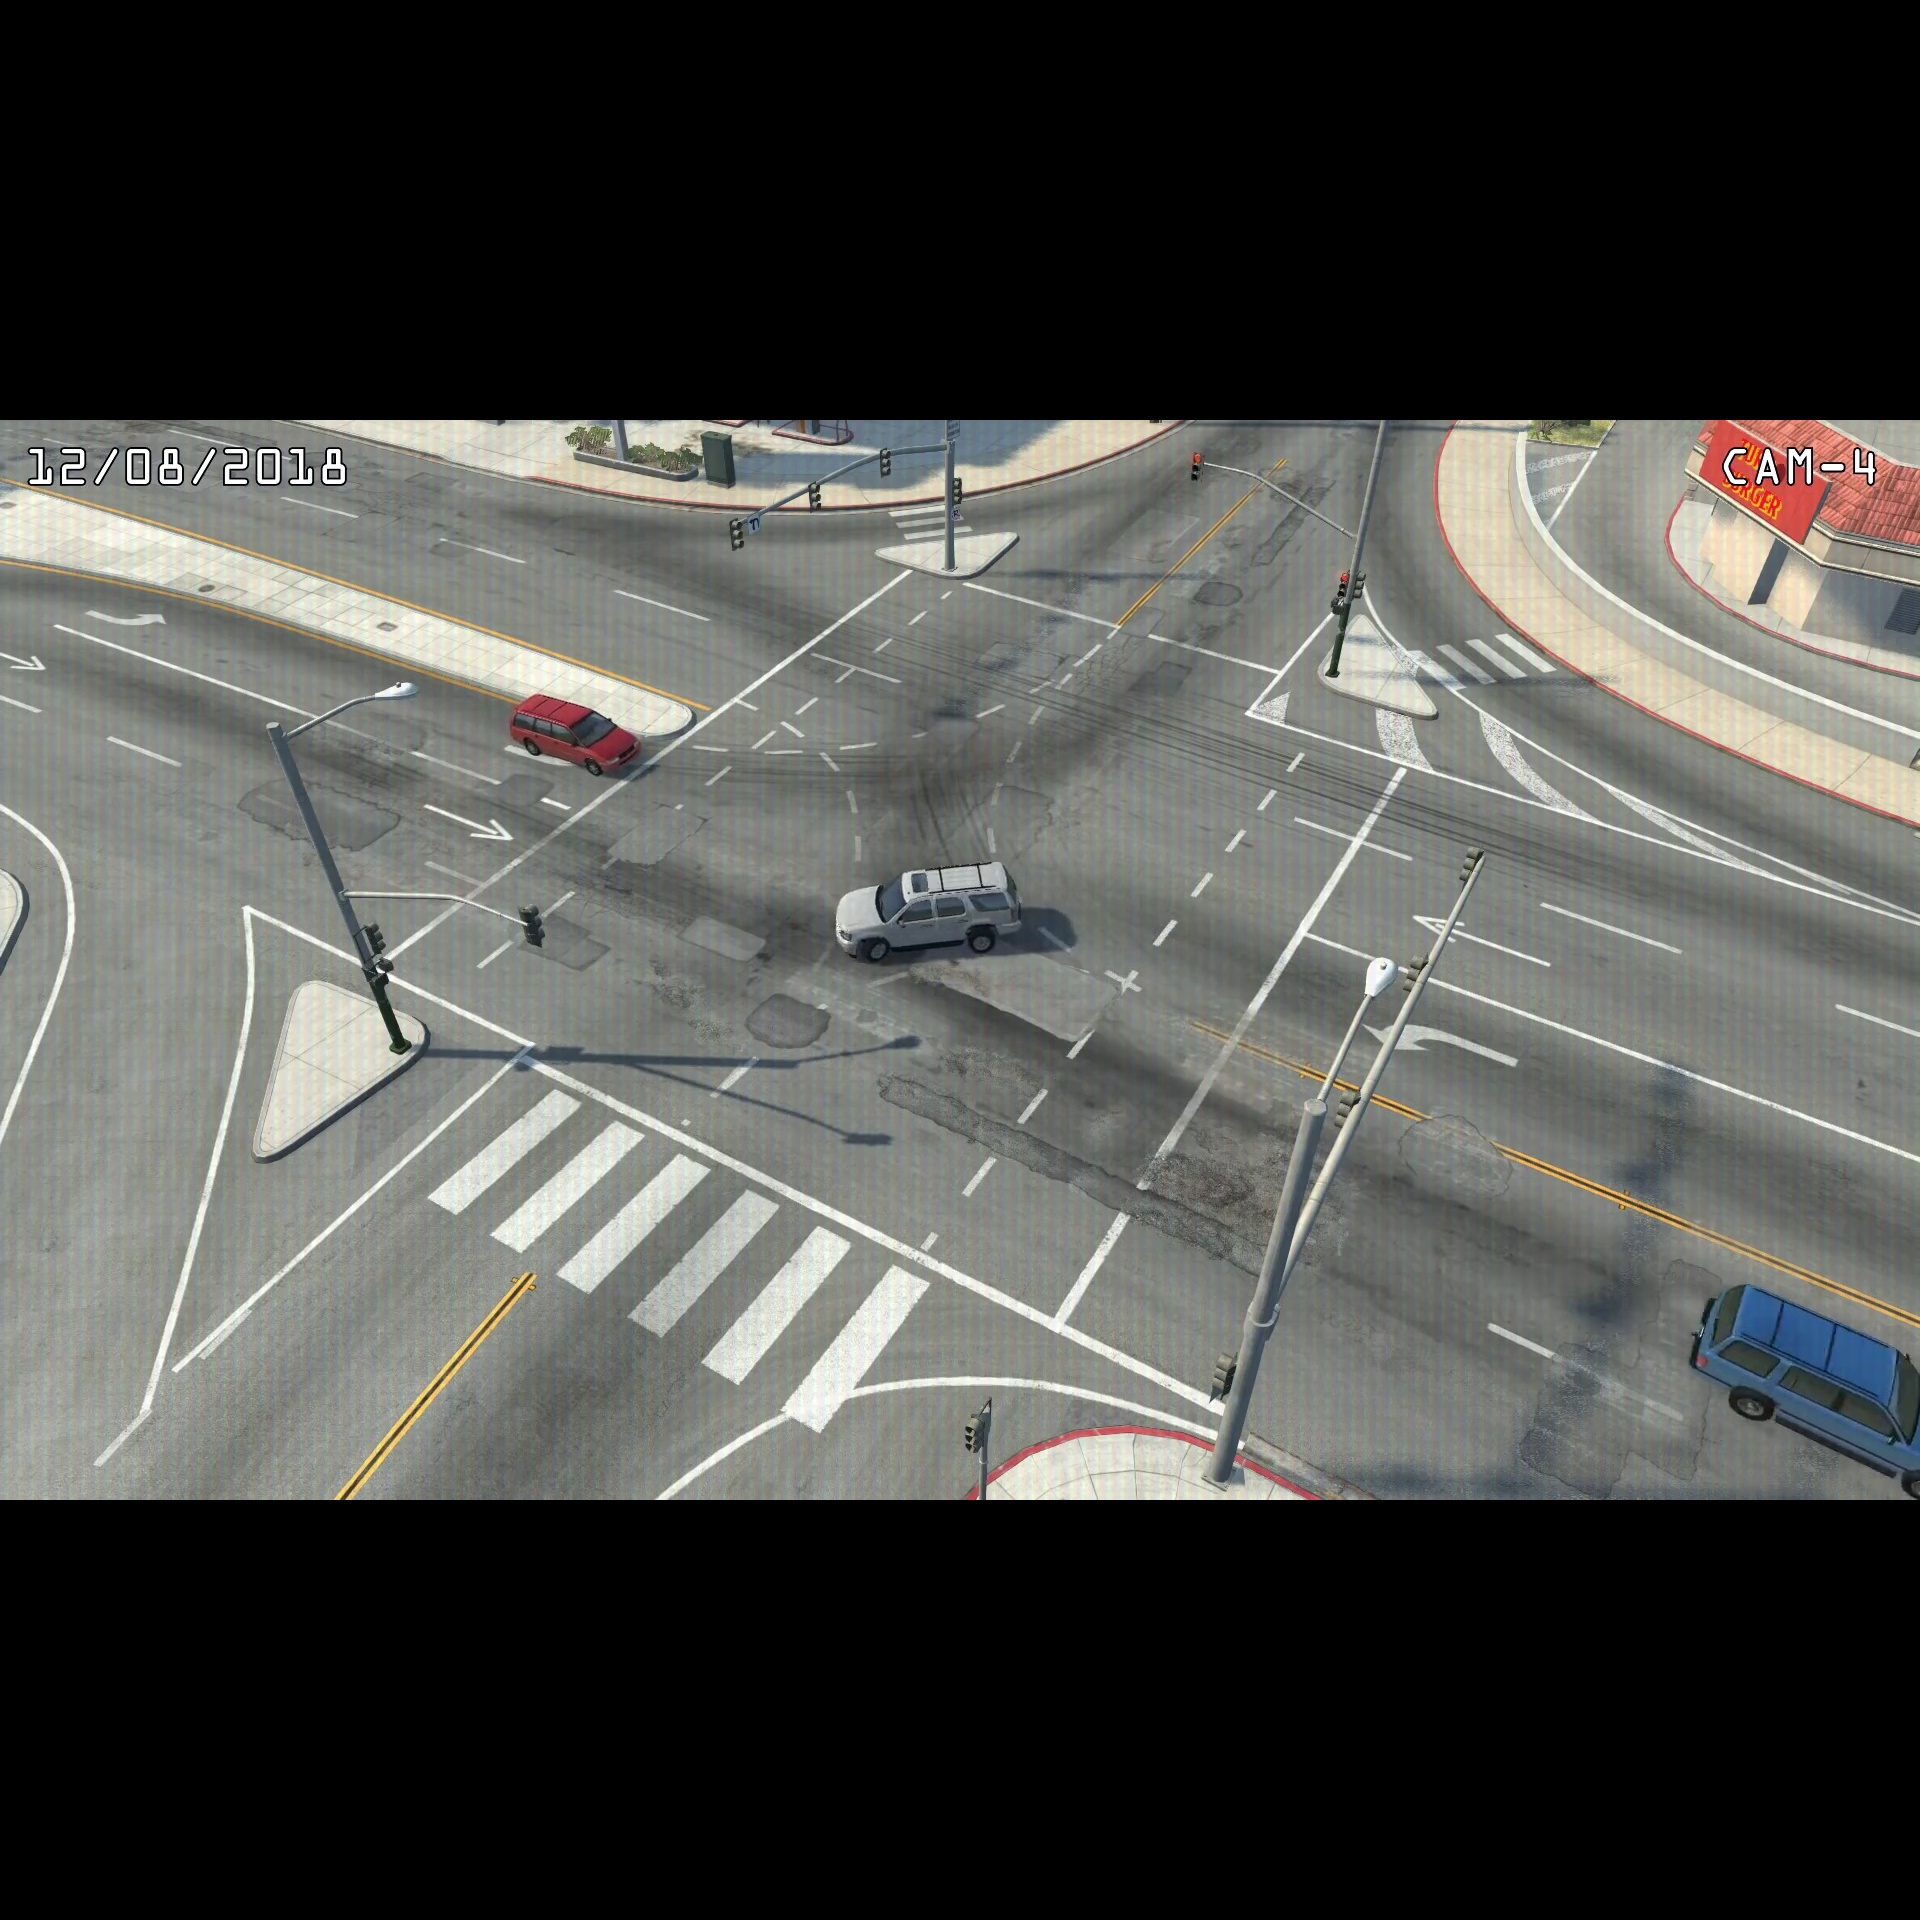vehicle: (1684, 1276, 1920, 1496), (833, 853, 1036, 969), (501, 686, 642, 781)
